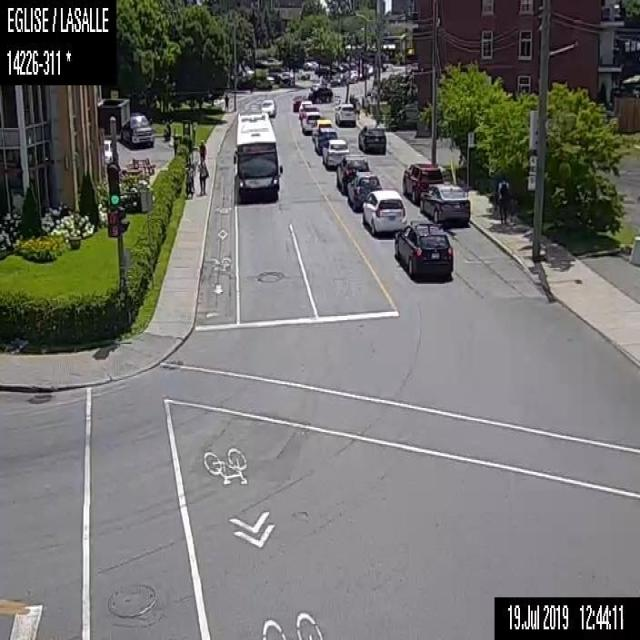bus: (232, 113, 282, 197)
pedestrian: (496, 173, 510, 224), (196, 160, 209, 197), (184, 163, 194, 196), (196, 136, 206, 162), (223, 90, 229, 114)
vehicle: (393, 219, 454, 276), (418, 180, 471, 226), (360, 187, 405, 233), (400, 160, 442, 203), (335, 153, 370, 192), (346, 171, 380, 209), (120, 114, 155, 148), (321, 136, 347, 167), (357, 123, 384, 150), (333, 103, 359, 128), (302, 110, 323, 134), (309, 84, 333, 101), (260, 98, 276, 116), (291, 93, 306, 111), (297, 98, 312, 115), (275, 69, 290, 85)
